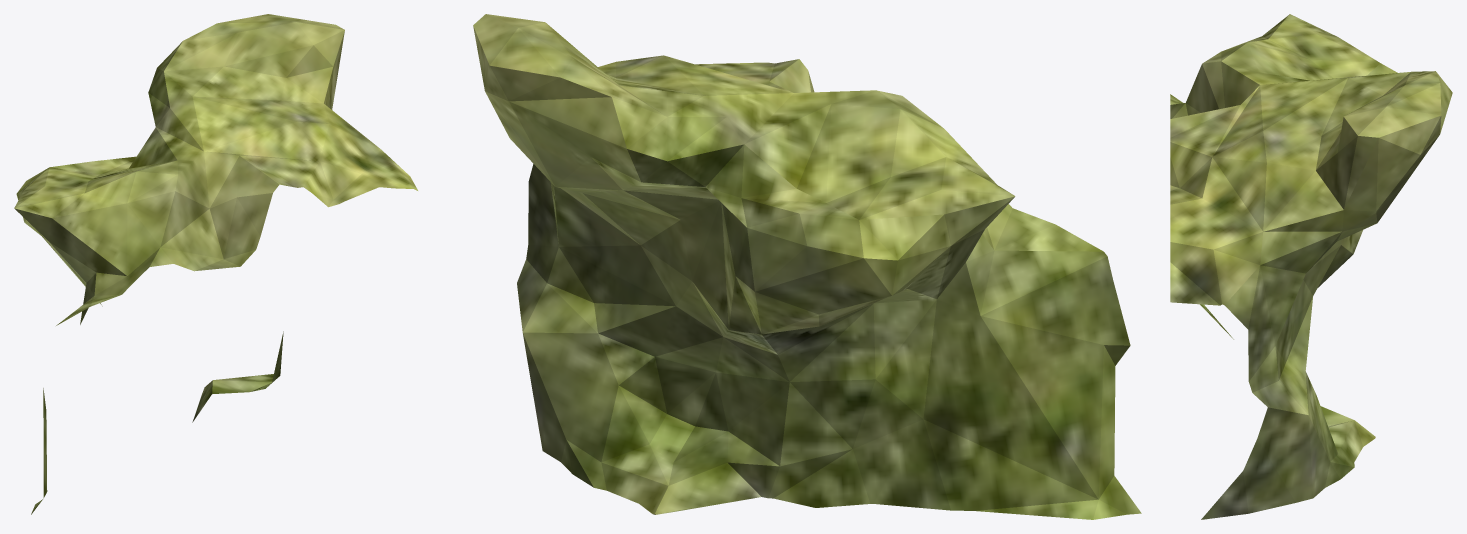
3 views of the same model, side by side, from view 1: azimuth 30°, elevation 25°; view 2: azimuth 150°, elevation 25°; view 3: azimuth 270°, elevation 25° (orthographic). The views are drawn at different scales.
Size of the model in its own units: 1.38 by 1.07 by 0.7135.
1 material, 1 textured.
